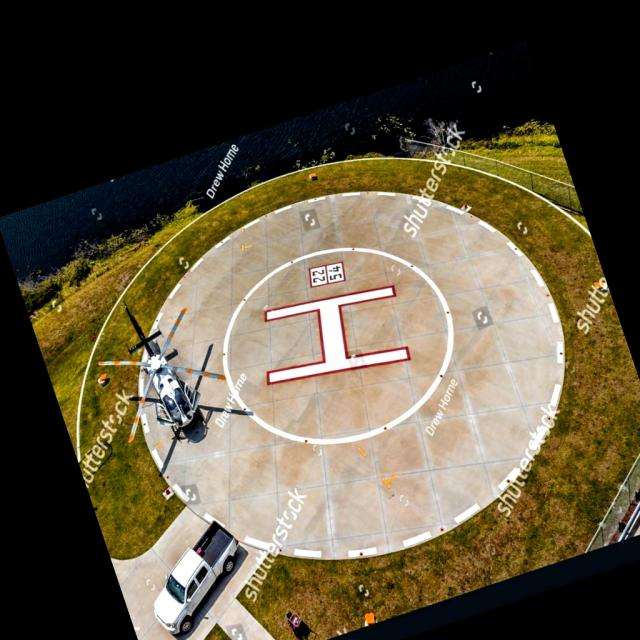helipad: (215, 242, 457, 450)
